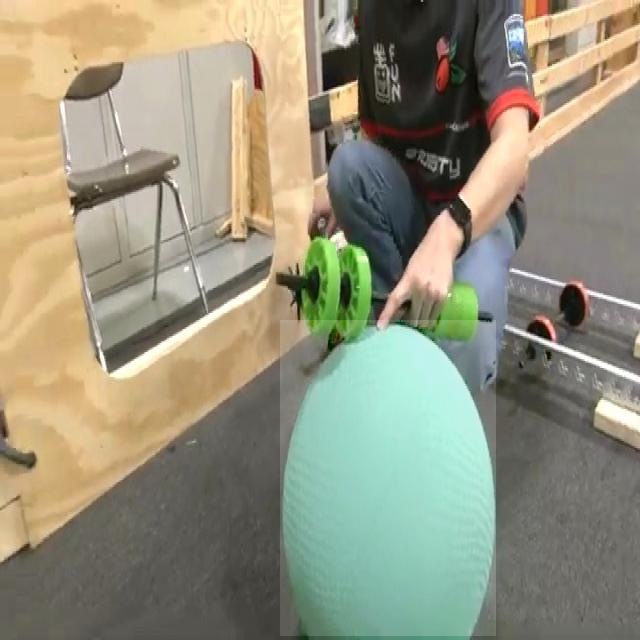Algae: (280, 320, 496, 636)
